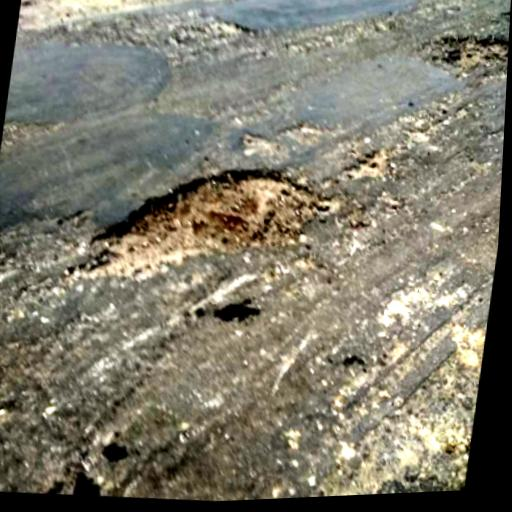pothole: (70, 146, 335, 302), (422, 26, 509, 78), (164, 12, 254, 51)
